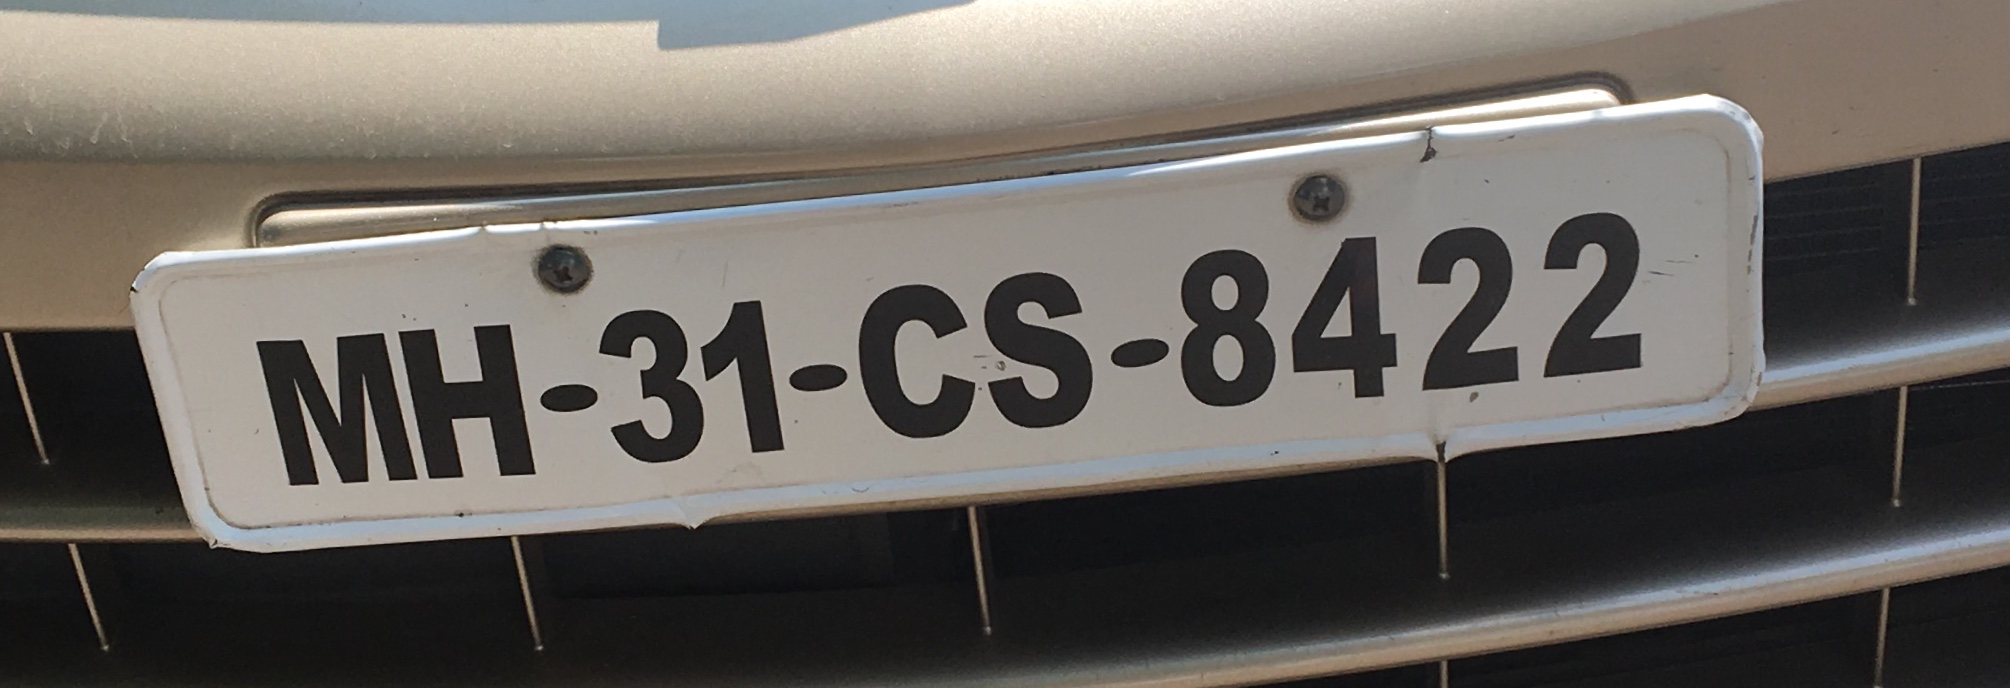numberplate: (131, 104, 1771, 558)
